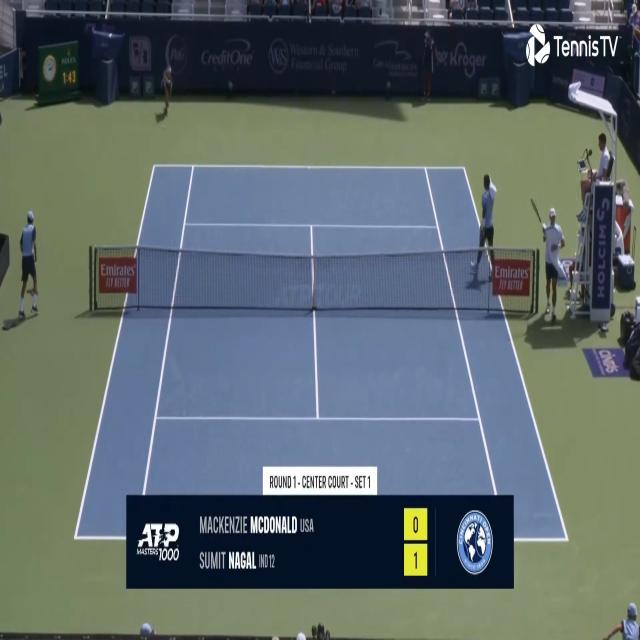tennis-player: (530, 190, 565, 322), (471, 164, 498, 278)
